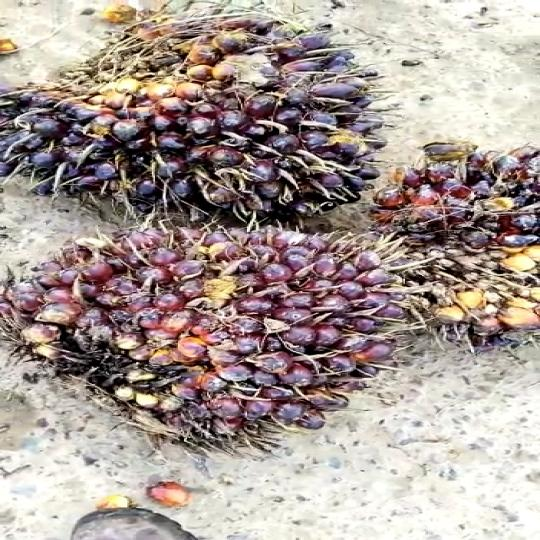kurang masak: (0, 222, 393, 446), (0, 0, 389, 224), (377, 143, 540, 336)
